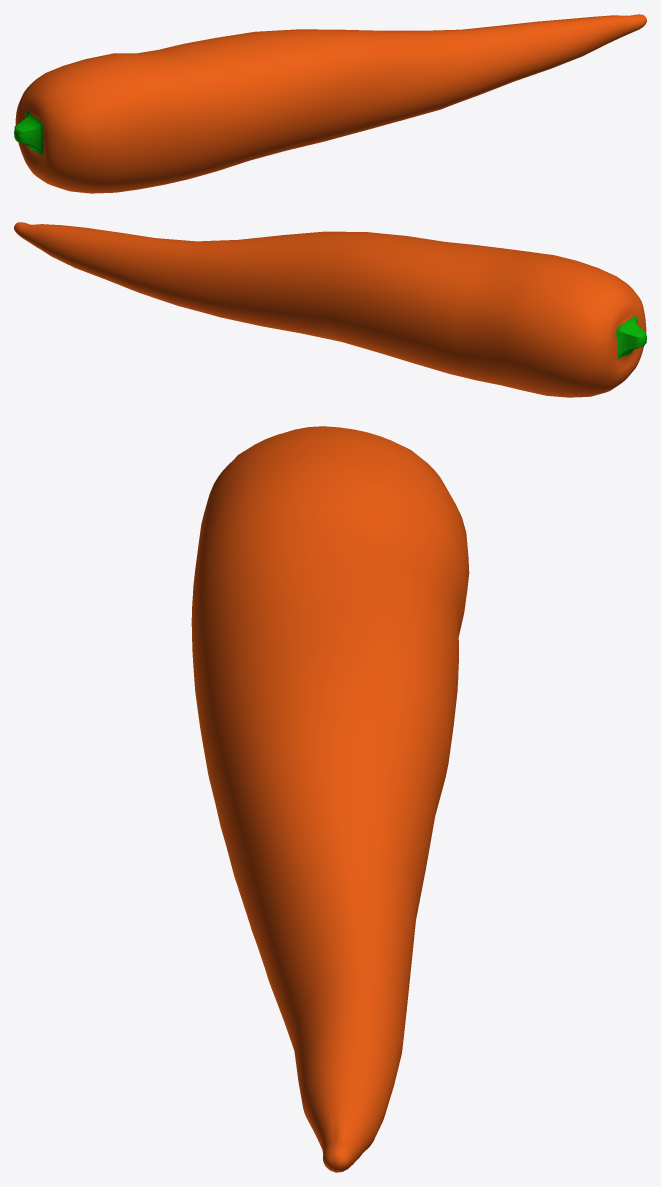
File: Carrot.fbx
3 renders of one model, top to bottom at view 1: azimuth 30°, elevation 25°; view 2: azimuth 150°, elevation 25°; view 3: azimuth 270°, elevation 25°, orthographic. The views are drawn at different scales.
Visible parts, largest first — view 1: Carrot; view 2: Carrot; view 3: Carrot.
Part boxes in pixels (<box>): Carrot: <box>14,14,646,193</box>; Carrot: <box>14,222,646,397</box>; Carrot: <box>191,426,469,1172</box>.
Bounding box in the file's own units: 745 × 142 × 142.
